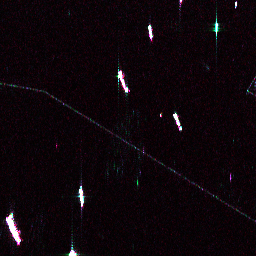ship: (2, 212, 24, 245), (115, 69, 131, 94), (170, 111, 182, 129), (145, 23, 154, 40), (77, 187, 85, 205), (65, 247, 77, 256), (212, 21, 220, 33)
